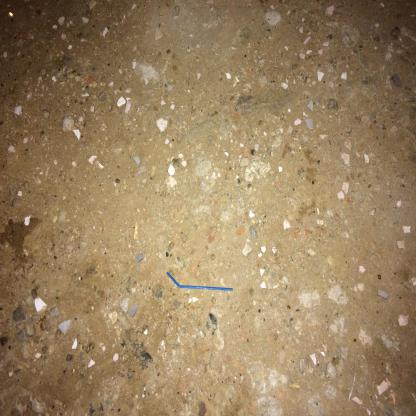plastik: (166, 272, 234, 292)
